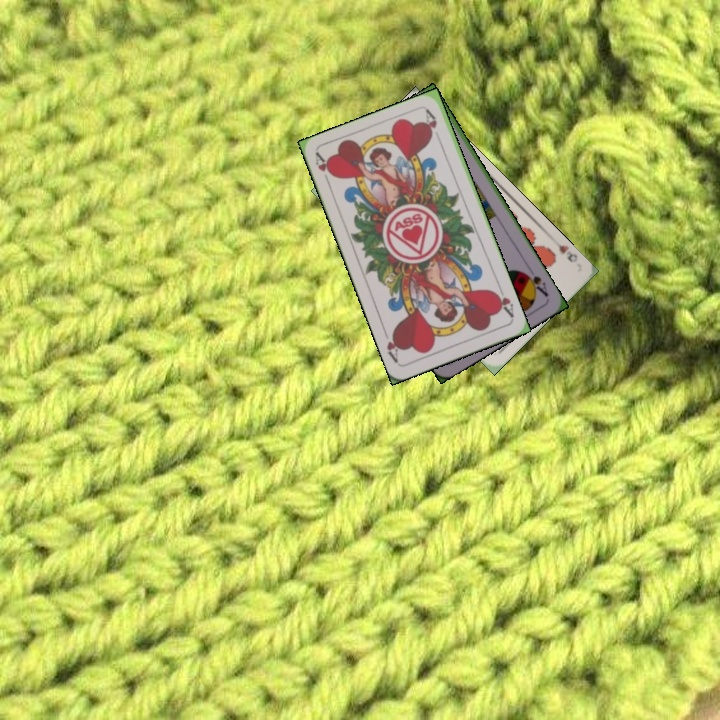H9: (549, 237, 579, 265)
HA: (489, 282, 517, 320), (311, 150, 336, 189)
SA: (519, 267, 551, 299)
